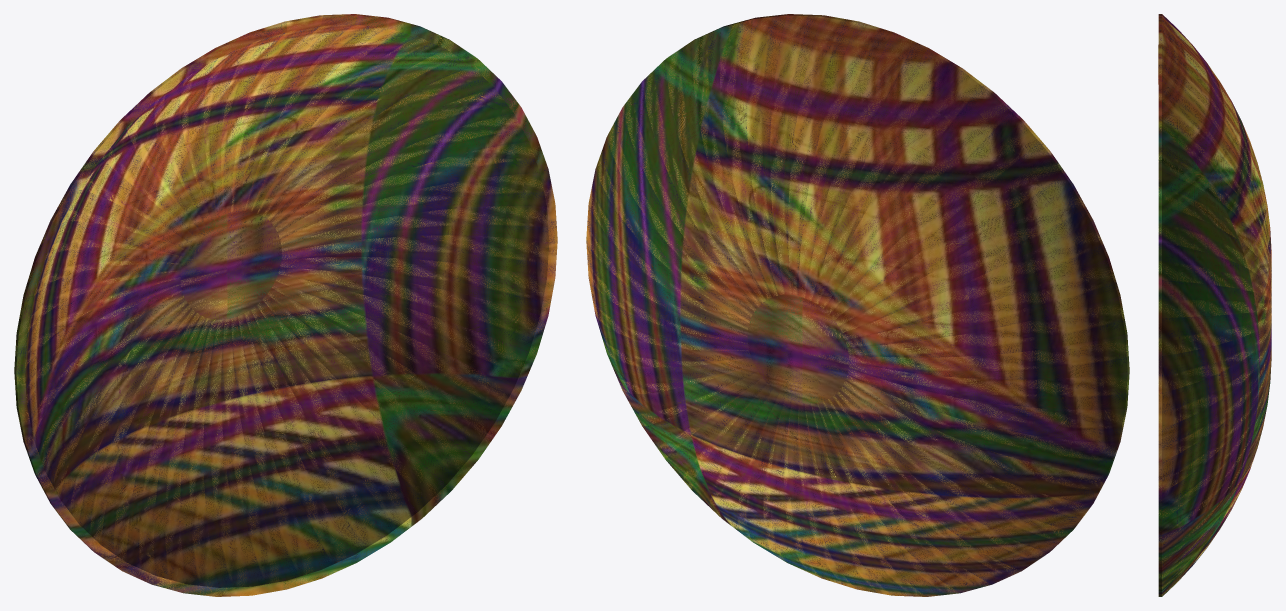
Rendered from model_scale.obj.
3 views of the same model, side by side, from view 1: azimuth 30°, elevation 25°; view 2: azimuth 150°, elevation 25°; view 3: azimuth 270°, elevation 25° (orthographic). The views are drawn at different scales.
Parts seen in each view (by area): view 1: mesh1_mesh1-geometry; view 2: mesh1_mesh1-geometry; view 3: mesh1_mesh1-geometry.
Boxes of the visible parts, x1,y1,x2,y2 form: mesh1_mesh1-geometry: (14, 14, 557, 596); mesh1_mesh1-geometry: (586, 14, 1129, 596); mesh1_mesh1-geometry: (1158, 14, 1271, 596).
Size of the model in its own units: 0.1666 by 0.1666 by 0.0323.
Materials: 1 (1 with a texture image).
